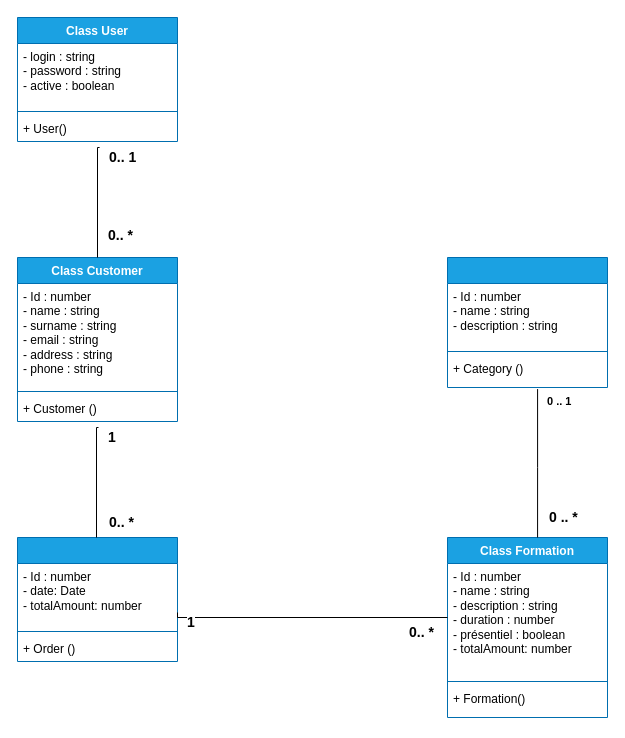
This 625x738 diagram has some shape labels left out. The box of each missing label's shape, as (x1, y1, x2, y2) in pixels:
Class Category: (446, 256, 608, 388)
Class Order: (16, 536, 178, 662)
